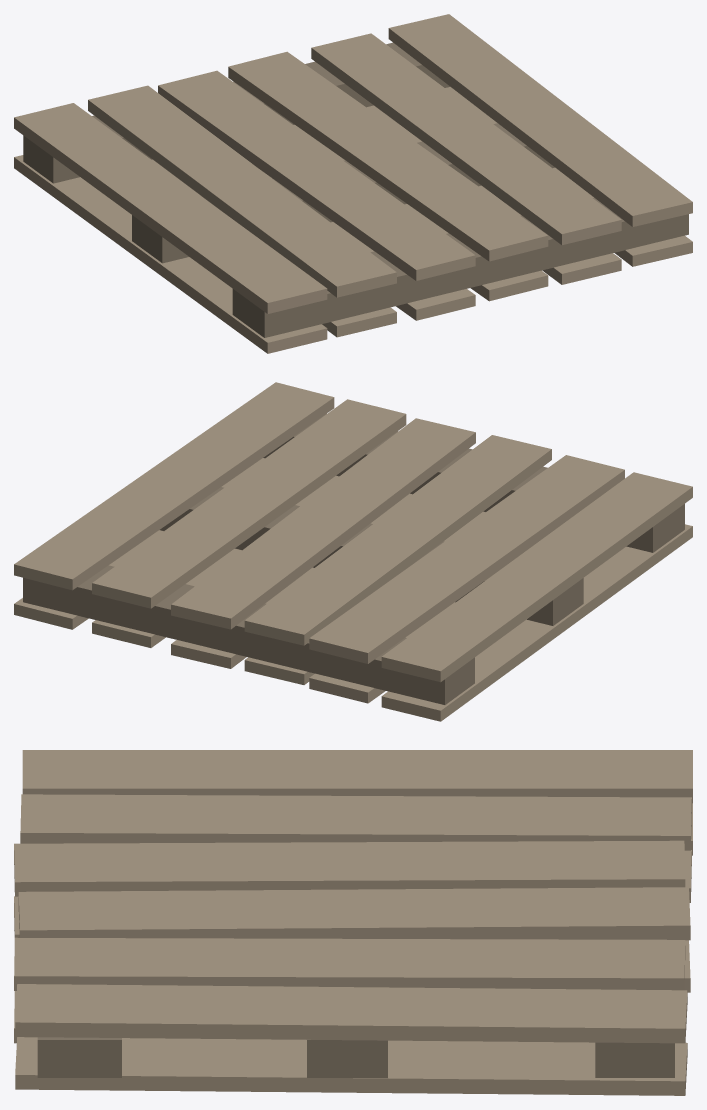
Rendered from pallete_1.fbx.
The picture shows the model from 3 angles, top to bottom: view 1: azimuth 30°, elevation 25°; view 2: azimuth 150°, elevation 25°; view 3: azimuth 270°, elevation 25°; orthographic projection. The views are drawn at different scales.
Visible parts, largest first — view 1: pallete_1_3, pallete_1_6, pallete_1_2, pallete_1_1, pallete_1_4, pallete_1_5, pallete_1_13, pallete_1_12, pallete_1_15, pallete_1_14, pallete_1_8, pallete_1_7 (+3 smaller); view 2: pallete_1_1, pallete_1_2, pallete_1_6, pallete_1_5, pallete_1_3, pallete_1_4, pallete_1_15, pallete_1_12, pallete_1_14, pallete_1_13, pallete_1_8, pallete_1_7 (+3 smaller); view 3: pallete_1_1, pallete_1_3, pallete_1_2, pallete_1_4, pallete_1_5, pallete_1_6, pallete_1_7, pallete_1_13, pallete_1_14, pallete_1_15.
Boxes of the visible parts, x1,y1,x2,y2 form: pallete_1_3: (228,51,548,261); pallete_1_6: (14,103,327,313); pallete_1_2: (311,33,621,244); pallete_1_1: (388,14,692,226); pallete_1_4: (158,70,475,280); pallete_1_5: (88,85,396,297); pallete_1_13: (232,197,688,337); pallete_1_12: (14,155,327,353); pallete_1_15: (23,42,450,183); pallete_1_14: (132,123,554,263); pallete_1_8: (367,105,621,284); pallete_1_7: (445,87,692,266); pallete_1_1: (14,382,334,590); pallete_1_2: (92,399,406,608); pallete_1_6: (381,472,692,682); pallete_1_5: (309,455,624,663); pallete_1_3: (171,418,475,629); pallete_1_4: (244,435,551,645); pallete_1_15: (23,565,474,704); pallete_1_12: (381,524,692,721); pallete_1_14: (160,487,583,625); pallete_1_13: (263,413,684,552); pallete_1_8: (92,475,338,647); pallete_1_7: (14,458,264,629); pallete_1_1: (15,984,687,1043); pallete_1_3: (18,887,690,940); pallete_1_2: (14,937,685,990); pallete_1_4: (14,840,685,896); pallete_1_5: (20,794,691,850); pallete_1_6: (22,750,692,803); pallete_1_7: (15,1037,687,1095); pallete_1_13: (37,1037,121,1077); pallete_1_14: (307,1039,387,1077); pallete_1_15: (595,1042,674,1077).
Bounding box in the file's own units: 226 × 25.44 × 233.
